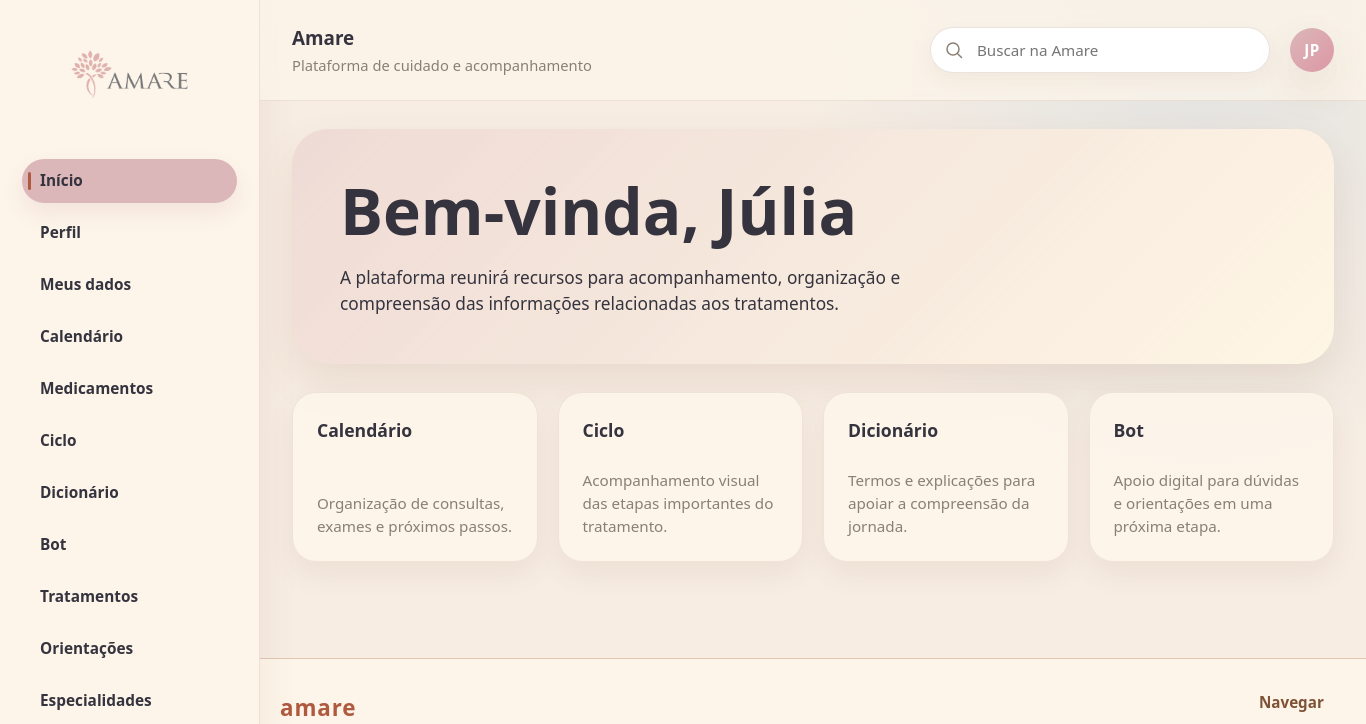
Test: Menu da conta no cabecalho › abre pelo gatilho e mostra atalhos da paciente + acoes de conta
Step 1. Click the button with test id "header-perfil-gatilho" → (1312, 50), box [1290,28,1334,72]
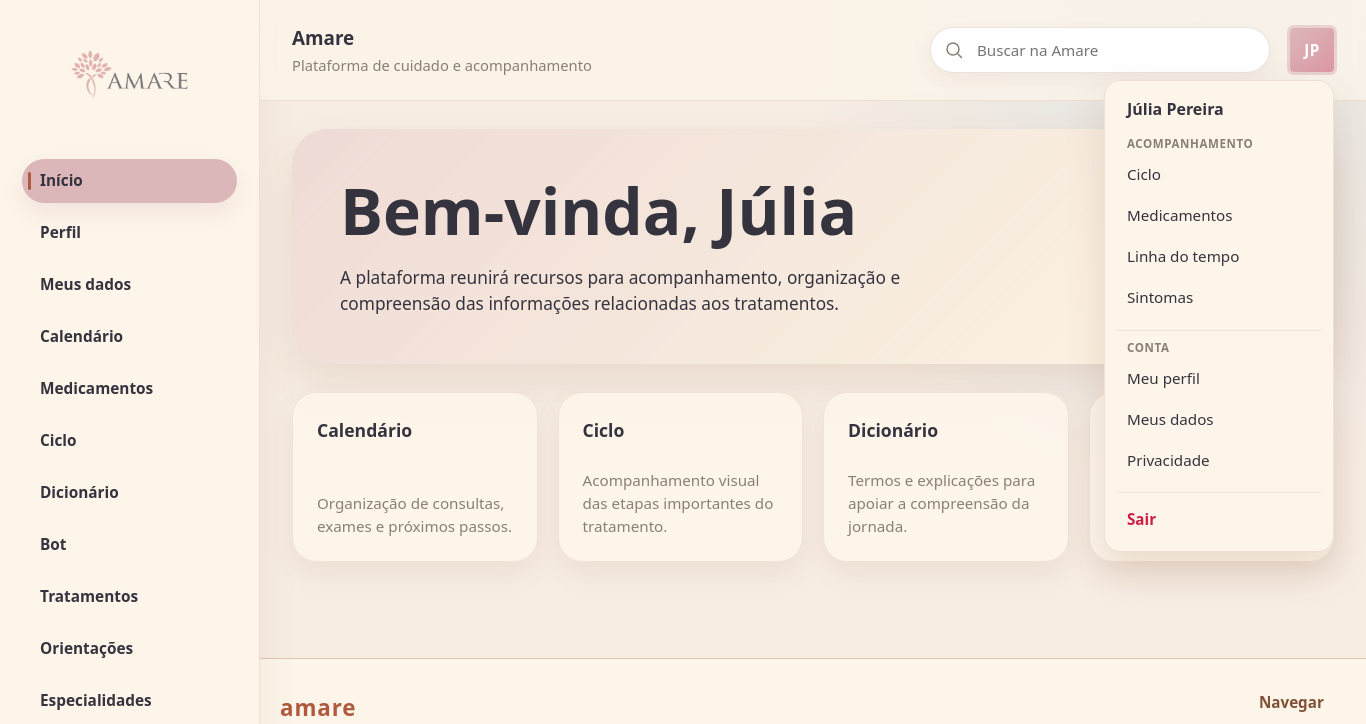
Result: the menu with test id "header-perfil-painel" is shown at [1104,80,1334,552]
Result: the menu item with test id "header-perfil-ciclo" is shown at [1127,165,1161,185]
Result: the menu item with test id "header-perfil-medicamentos" is shown at [1127,205,1233,225]
